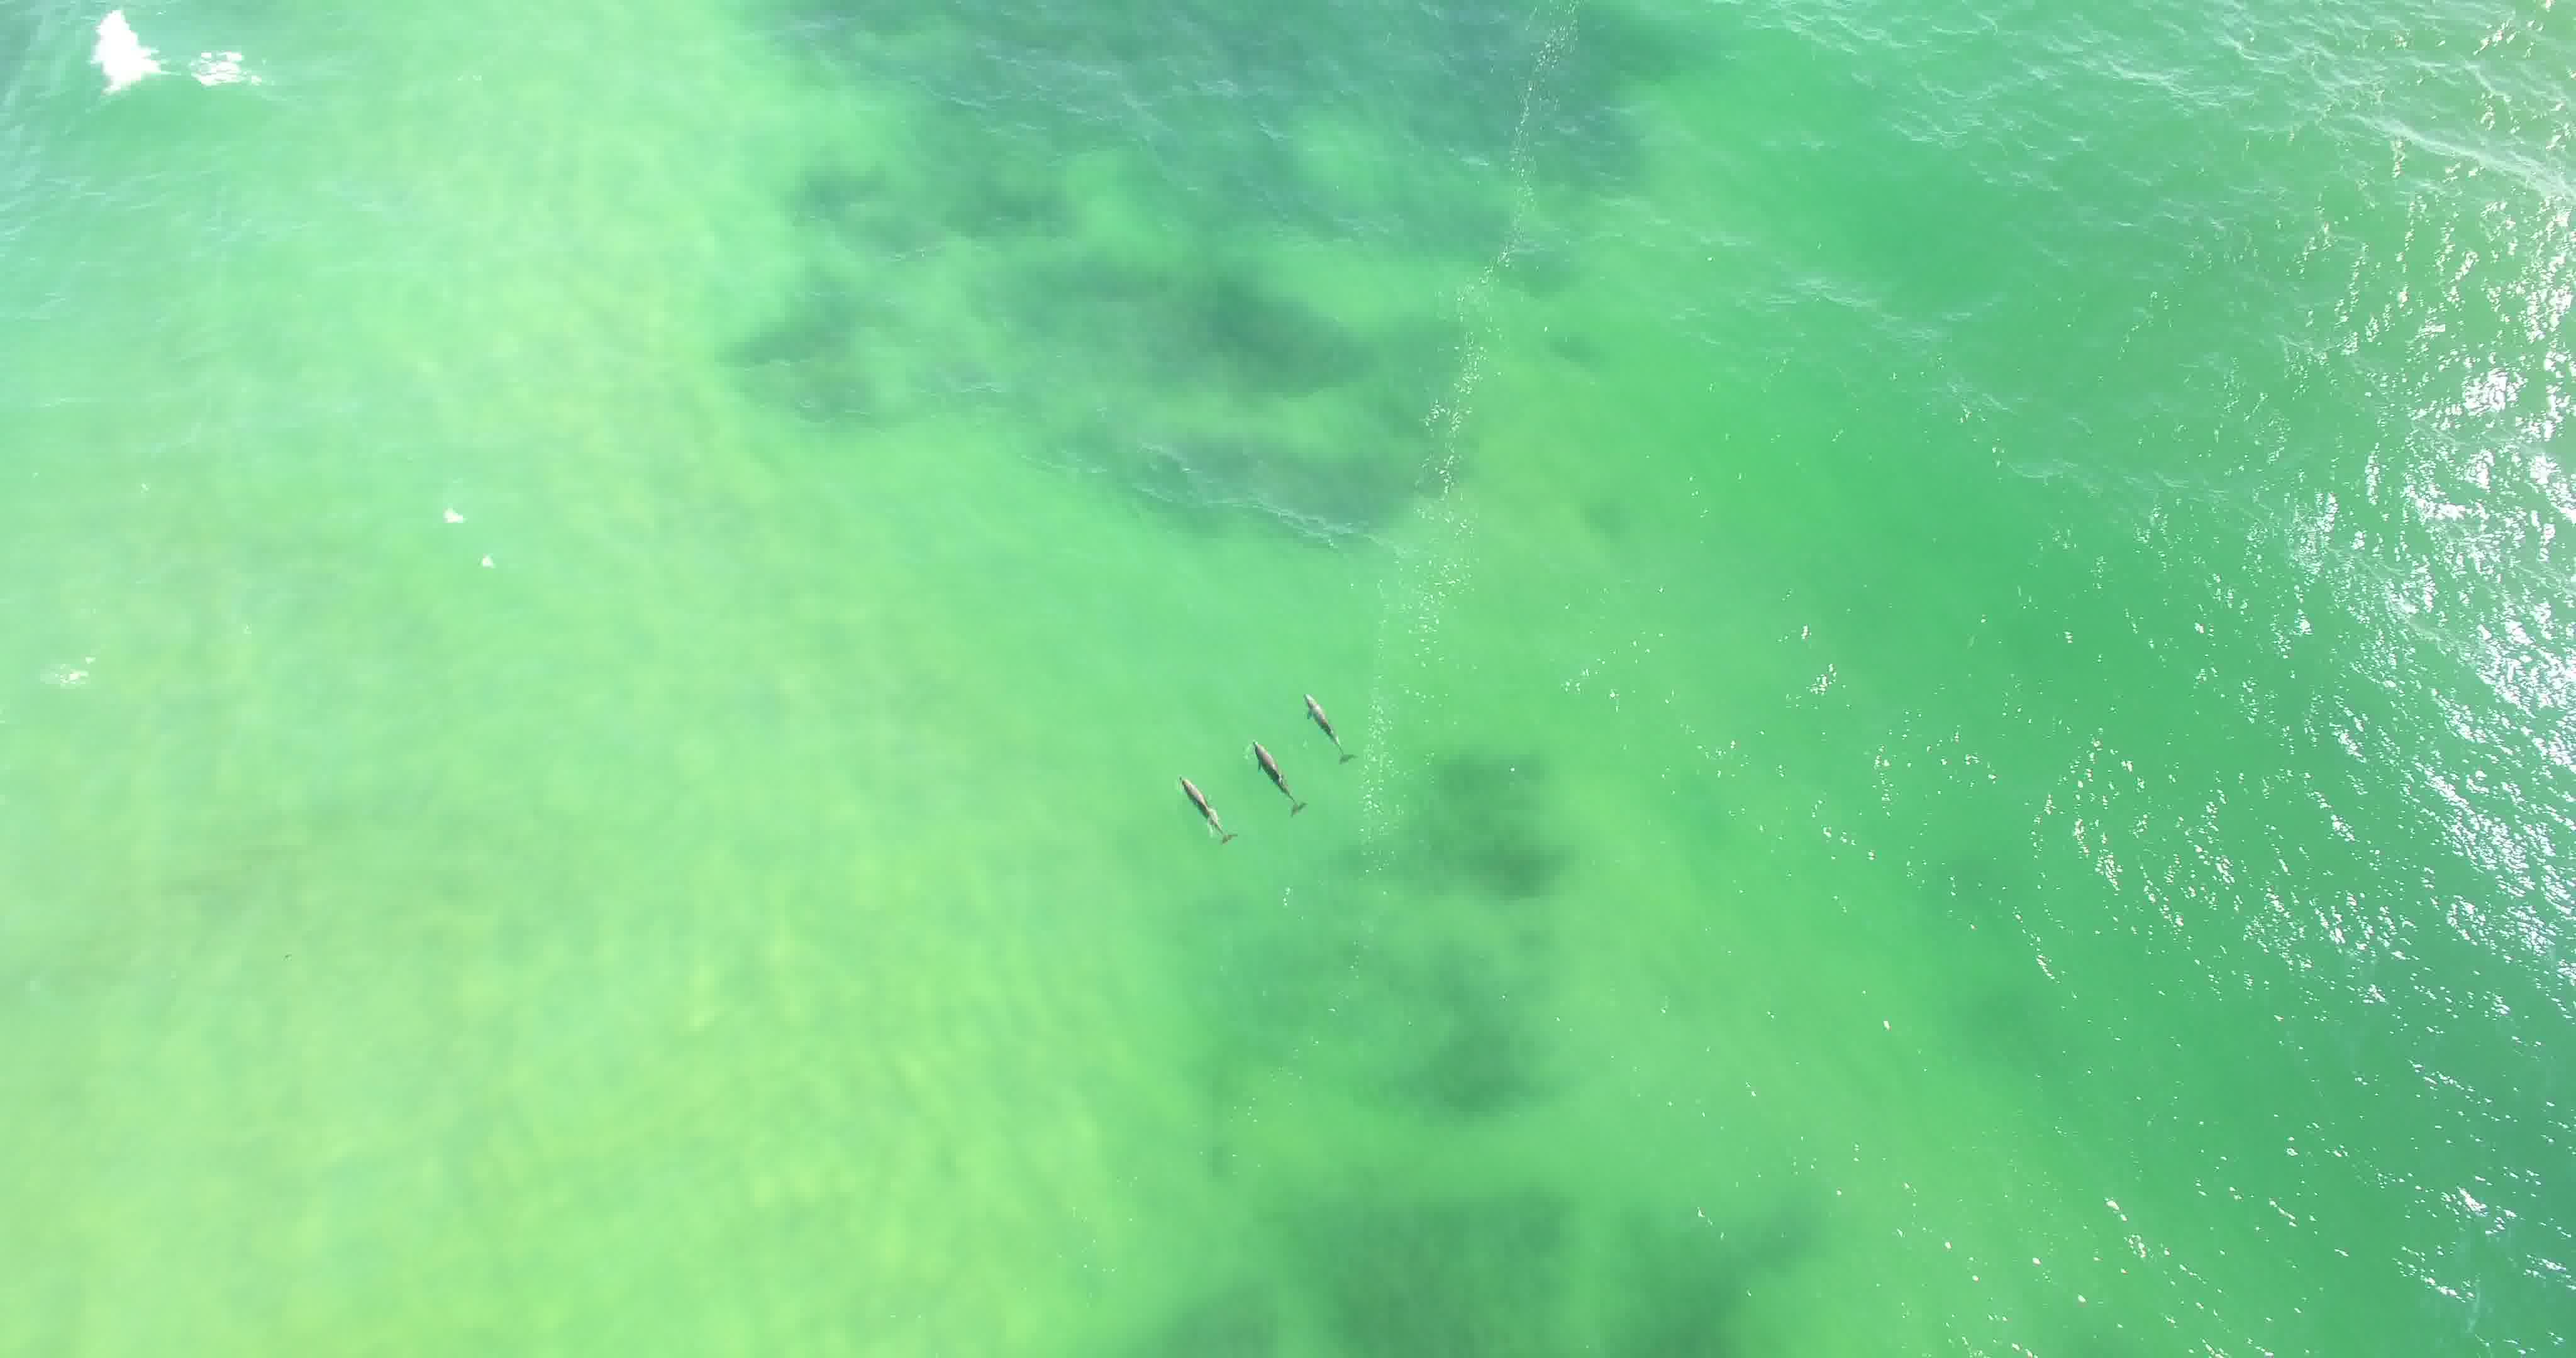dolphin: (1228, 717, 1315, 820), (1293, 676, 1370, 782), (1167, 753, 1244, 855)
